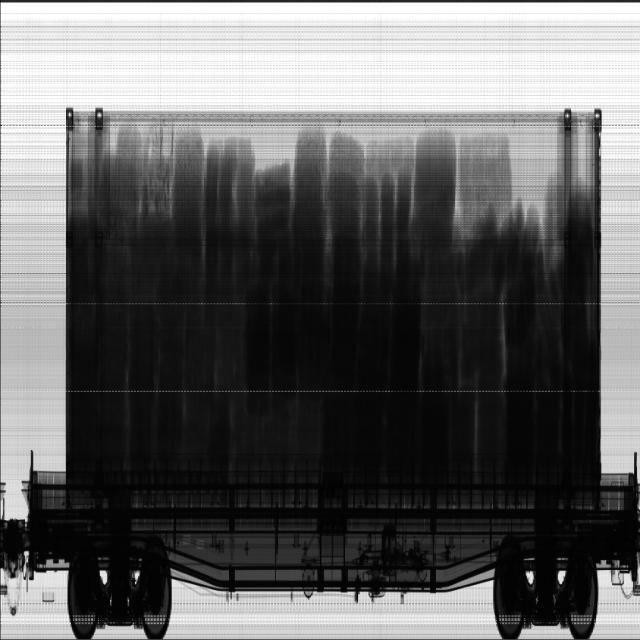textile: (68, 125, 595, 475)
